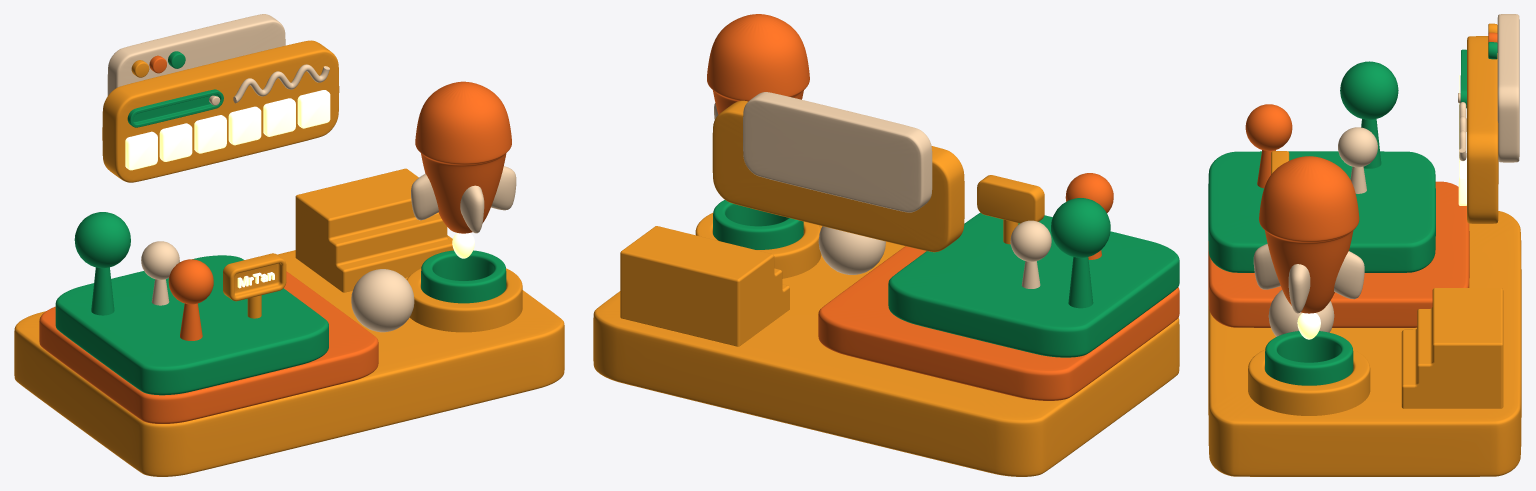
Rendered from demo2.glb.
3 renders of one model, left to right at view 1: azimuth 30°, elevation 25°; view 2: azimuth 150°, elevation 25°; view 3: azimuth 270°, elevation 25°, orthographic. The views are drawn at different scales.
Parts seen in each view (by area): view 1: 立方体, 立方体.002, 立方体.009, 立方体.008, 立方体.001, 柱体.006, 立方体.010, 立方体.012, 柱体.004, 柱体.005, 球体, 球体.001 (+10 smaller); view 2: 立方体, 立方体.002, 立方体.001, 立方体.012, 立方体.008, 立方体.009, 柱体.006, 柱体.005, 球体.001, 立方体.003, 球体, 柱体.004 (+3 smaller); view 3: 立方体, 立方体.002, 立方体.008, 立方体.001, 柱体.006, 立方体.009, 柱体.004, 柱体.005, 立方体.012, 球体.001, 球体.002, 球体 (+11 smaller).
Boxes of the visible parts, x1,y1,x2,y2 form: 立方体: (14,235,564,476); 立方体.002: (55,255,328,395); 立方体.009: (102,40,339,182); 立方体.008: (295,168,453,292); 立方体.001: (39,271,378,423); 柱体.006: (415,81,511,233); 立方体.010: (125,90,330,170); 立方体.012: (107,14,285,95); 柱体.004: (407,268,522,332); 柱体.005: (421,250,506,303); 球体: (351,269,414,332); 球体.001: (74,212,130,268); 立方体: (593,225,1179,476); 立方体.002: (888,212,1179,357); 立方体.001: (818,246,1179,400); 立方体.012: (743,92,932,212); 立方体.008: (620,226,789,346); 立方体.009: (712,100,964,252); 柱体.006: (707,14,809,114); 柱体.005: (713,200,803,249); 球体.001: (1051,198,1110,257); 立方体.003: (977,175,1044,223); 球体: (818,226,885,274); 柱体.004: (695,213,821,278); 立方体: (1208,211,1521,476); 立方体.002: (1208,151,1435,272); 立方体.008: (1401,288,1503,408); 立方体.001: (1208,181,1469,327); 柱体.006: (1259,156,1359,313); 立方体.009: (1466,36,1498,223); 柱体.004: (1248,349,1370,415); 柱体.005: (1265,331,1353,385); 立方体.012: (1497,14,1519,162); 球体.001: (1340,61,1398,119); 球体.002: (1245,104,1292,150); 球体: (1268,290,1334,336).
Size of the model in its own units: 10 by 6.75 by 6.18.
